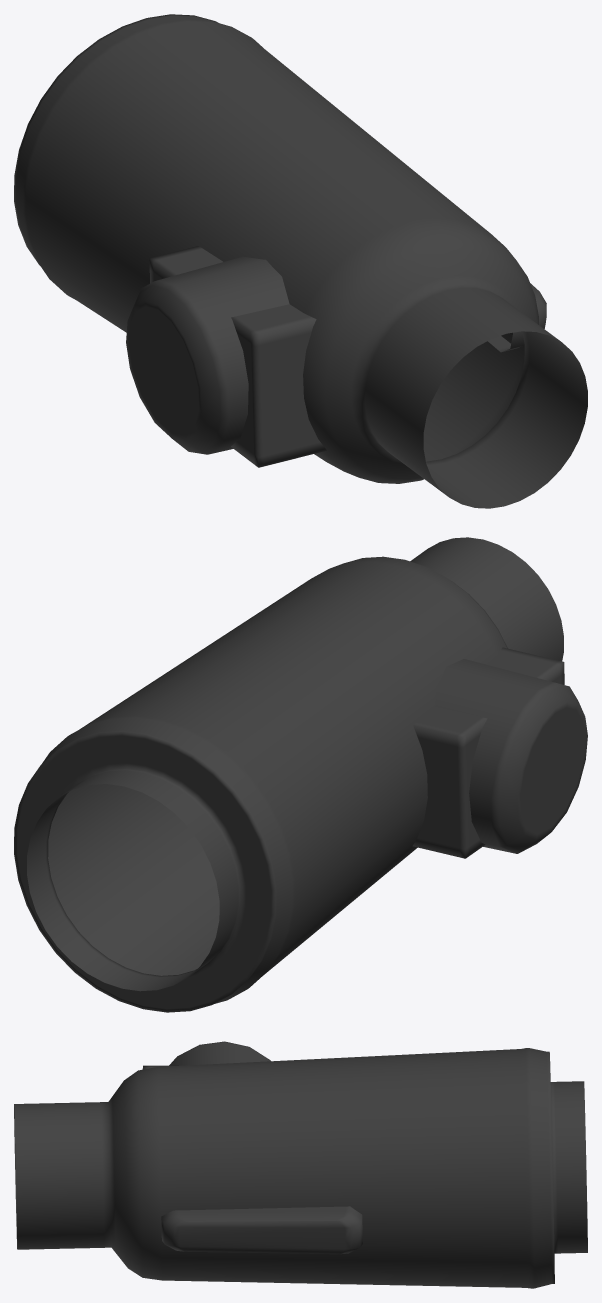
File: wrist.dae
3 views of the same model, one above another, from view 1: azimuth 30°, elevation 25°; view 2: azimuth 150°, elevation 25°; view 3: azimuth 270°, elevation 25° (orthographic). The views are drawn at different scales.
Parts seen in each view (by area): view 1: wrist; view 2: wrist; view 3: wrist.
Part boxes in pixels (x1,y1,x2,y2): wrist: (14, 14, 587, 508); wrist: (14, 537, 587, 1012); wrist: (14, 1041, 587, 1288).
Size of the model in its own units: 0.8323 by 1.48 by 0.6225.
1 material, 1 textured.
